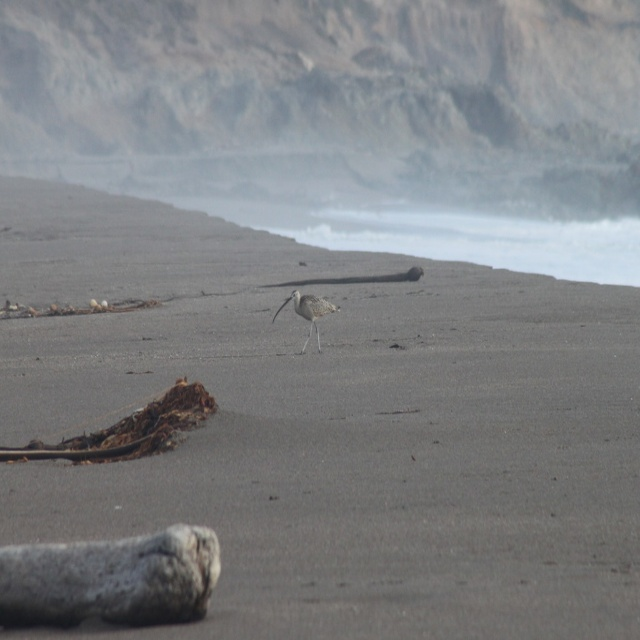Harbor seal: (30, 522, 232, 633)
